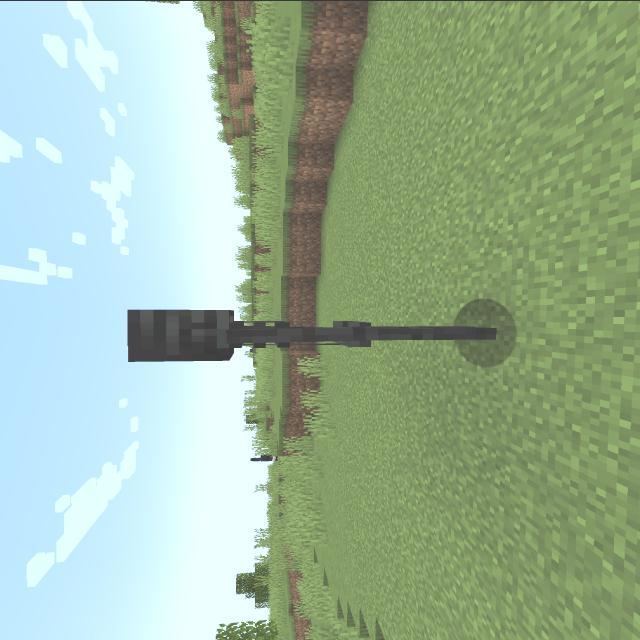Wither Skeleton: (116, 290, 534, 368)
